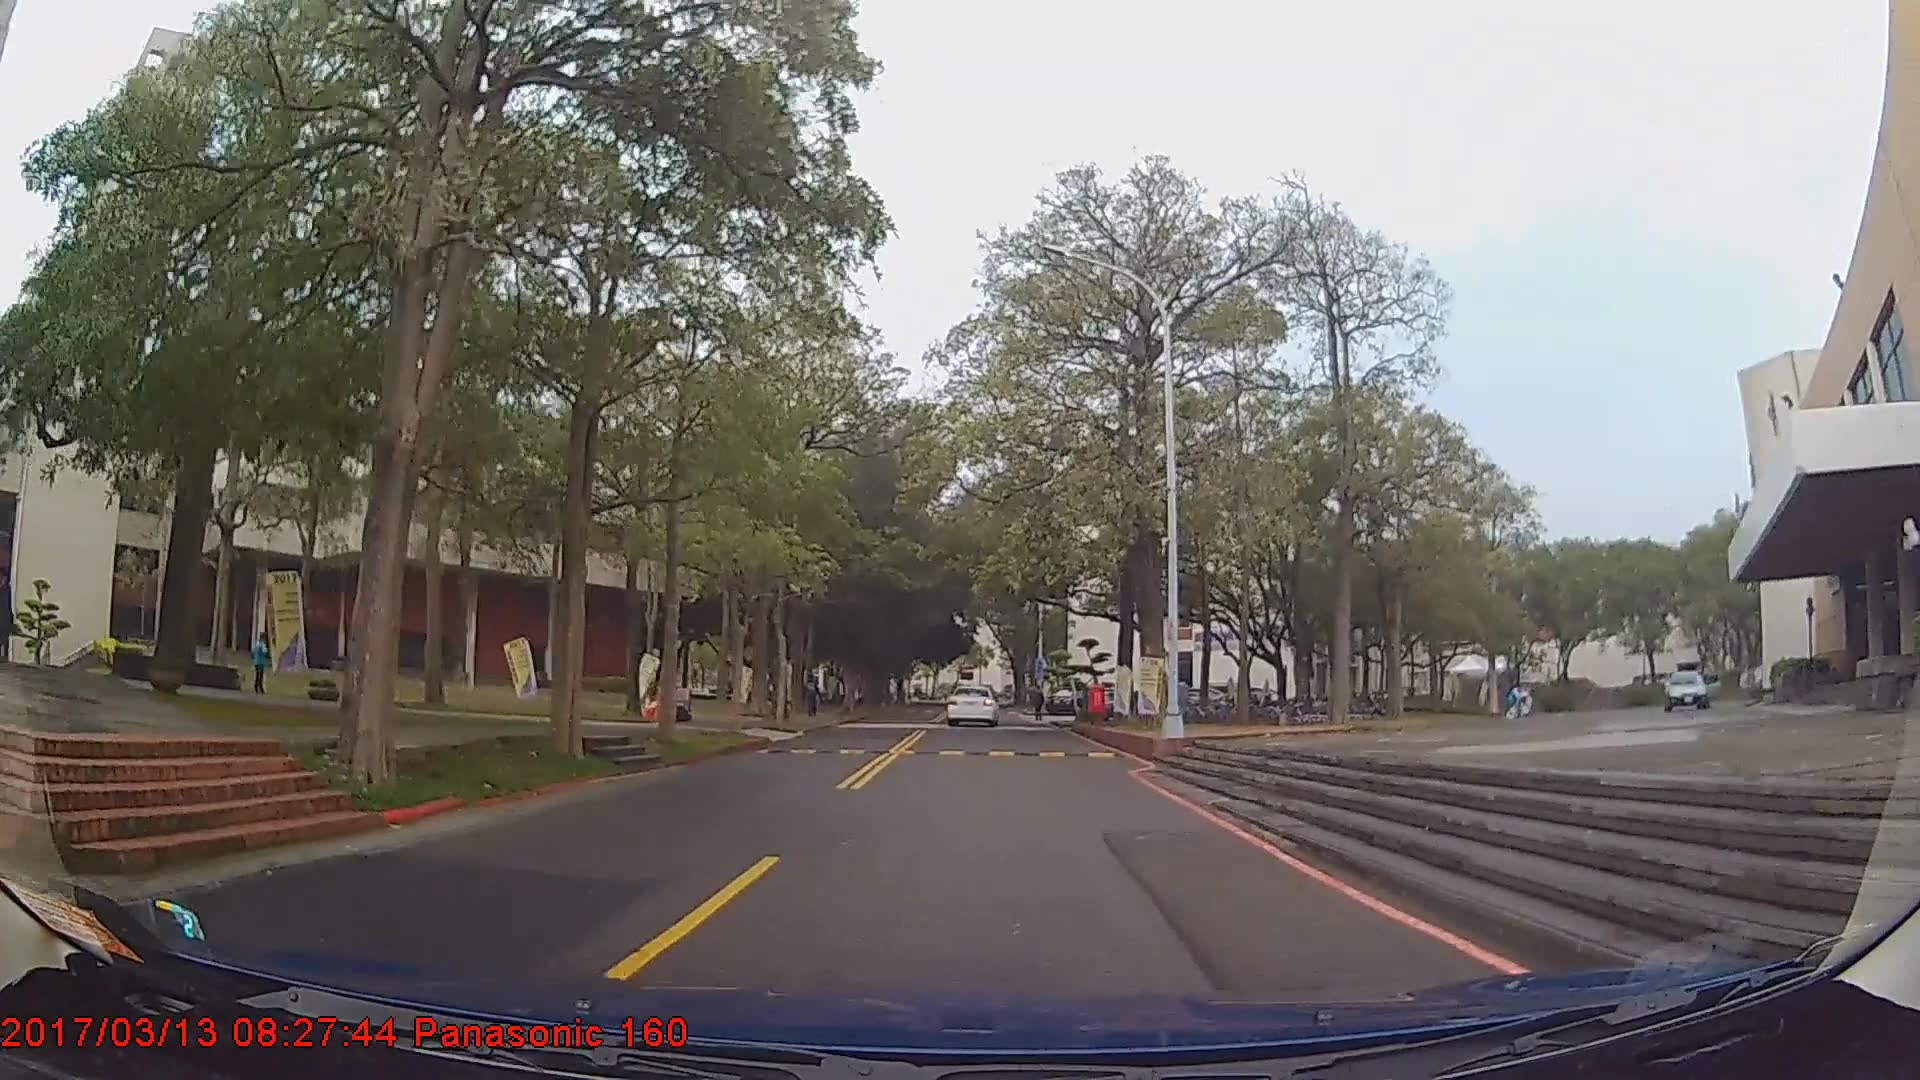pedestrian: (249, 633, 270, 693)
vehicle: (1659, 666, 1724, 711), (944, 685, 999, 728)
